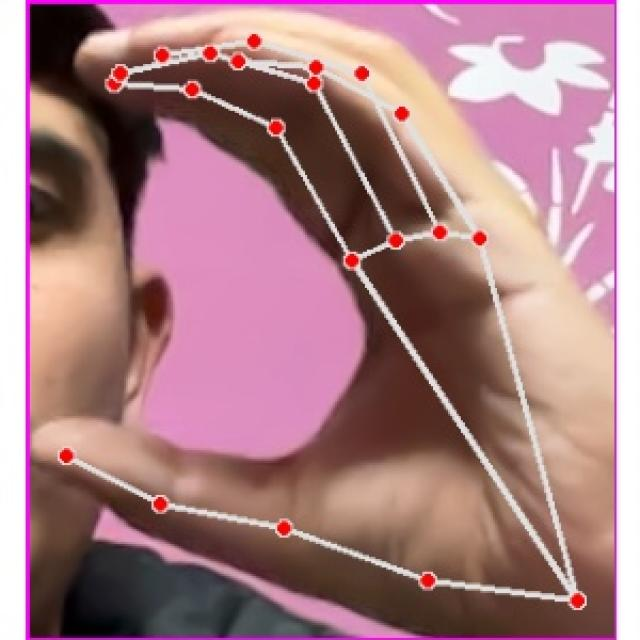C: (29, 0, 613, 640)
